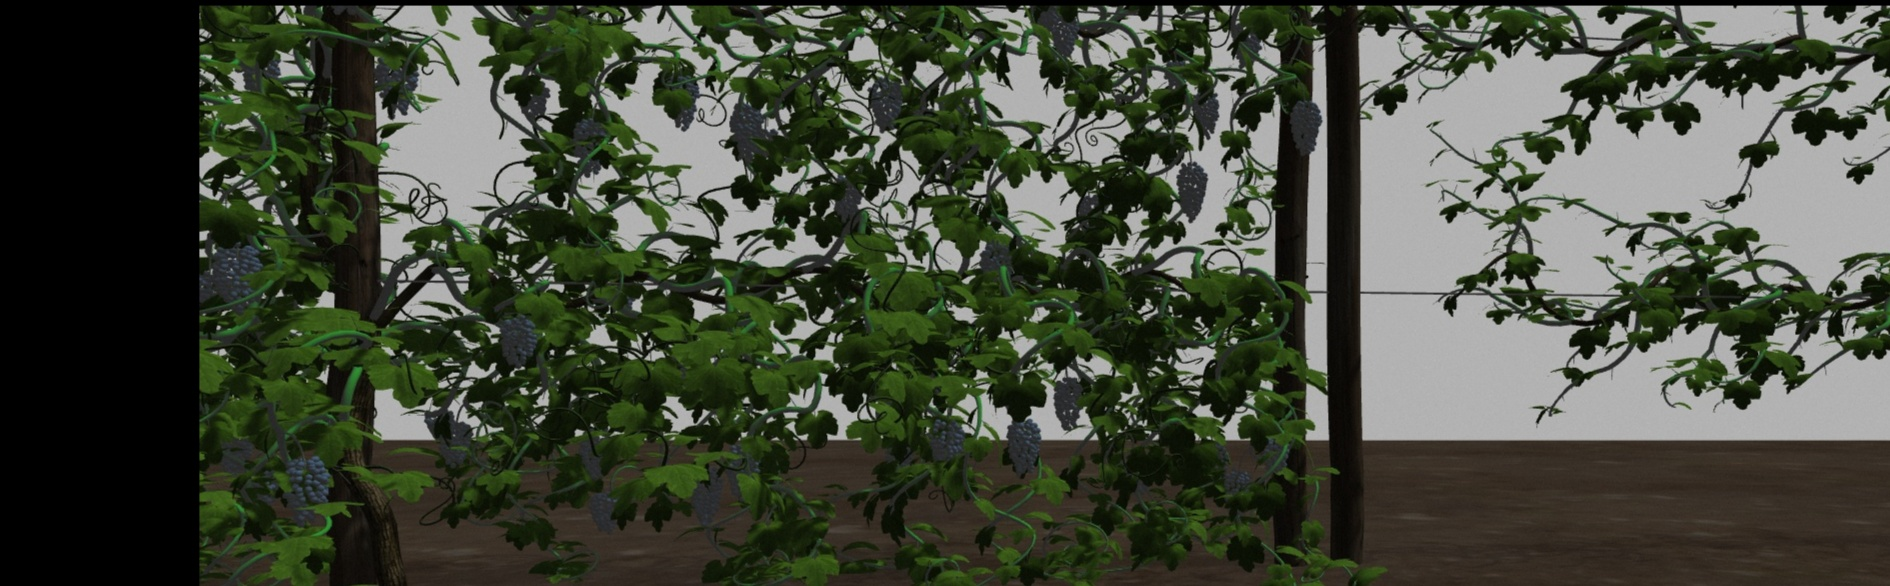grape: (281, 455, 329, 527), (211, 245, 262, 312), (372, 53, 419, 117), (724, 444, 759, 506), (498, 313, 539, 367), (729, 102, 764, 163), (1289, 98, 1322, 159), (1006, 418, 1041, 477), (665, 74, 700, 131), (1175, 162, 1208, 223), (689, 465, 722, 527), (868, 78, 903, 131), (573, 118, 604, 176), (1053, 376, 1084, 430), (927, 418, 964, 462), (440, 421, 472, 468), (587, 491, 623, 533), (579, 436, 610, 480), (834, 177, 861, 224), (1051, 16, 1079, 58), (1192, 89, 1219, 133), (1262, 438, 1289, 476), (523, 82, 550, 118), (978, 244, 1009, 271), (1225, 468, 1249, 494), (1039, 7, 1060, 29)
